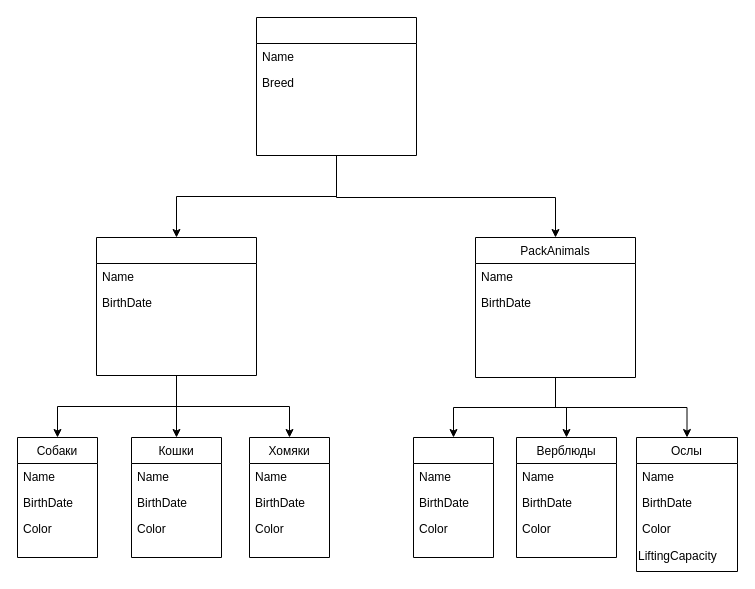
This 755x589 diagram has some shape labels left out. Here are the shapes that lost their labels. From the top down, the box of each, then its label:
(256, 16, 416, 156): Animals
(96, 236, 256, 376): Pets
(412, 436, 494, 558): Лошади
